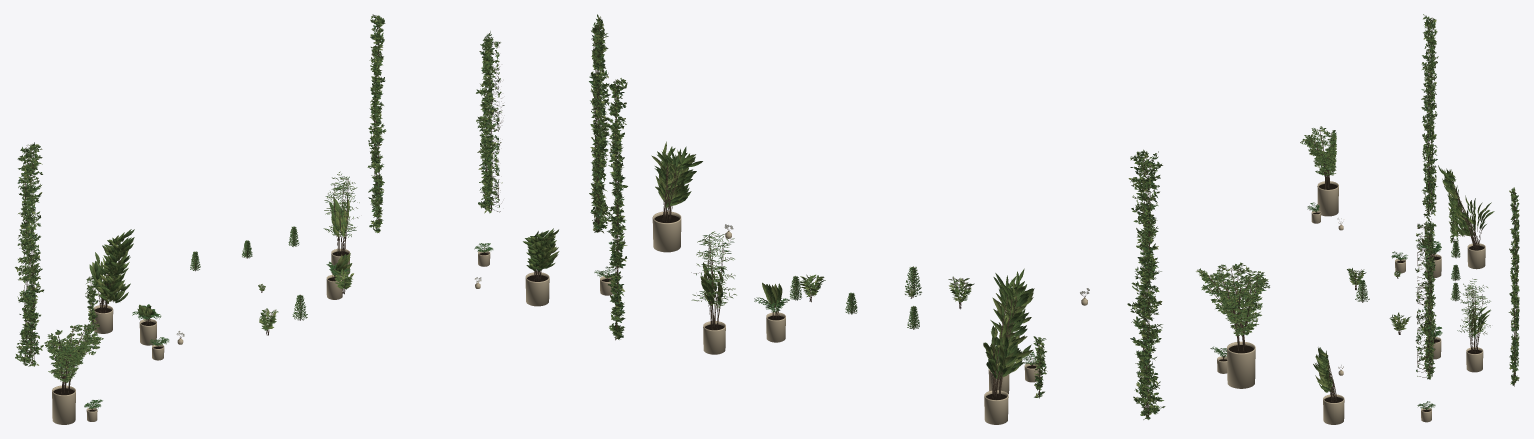
Rendered from projection-botanical-v9.glb.
3 renders of one model, left to right at view 1: azimuth 30°, elevation 25°; view 2: azimuth 150°, elevation 25°; view 3: azimuth 270°, elevation 25°, orthographic. The views are drawn at different scales.
Parts seen in each view (by area): view 1: Projection Botanical V9 | foliage small climbing leaves, Projection Botanical V9 | foliage slender areca and bamboo, Projection Botanical V9 | planter champagne brushed metal, Projection Botanical V9 | foliage broad glossy tropical unde, Projection Botanical V9 | foliage mature ficus with fine ret, Projection Botanical V9 | bark textured natural warm grey tr, Projection Botanical V9 | foliage fine fern pinnae, Projection Botanical V9 | bark slender olive brown stems; view 2: Projection Botanical V9 | foliage small climbing leaves, Projection Botanical V9 | foliage slender areca and bamboo, Projection Botanical V9 | planter champagne brushed metal, Projection Botanical V9 | bark textured natural warm grey tr, Projection Botanical V9 | foliage mature ficus with fine ret, Projection Botanical V9 | foliage broad glossy tropical unde, Projection Botanical V9 | bark slender olive brown stems, Projection Botanical V9 | foliage fine fern pinnae, Projection Botanical V9 | soil dark coarse planting substrat; view 3: Projection Botanical V9 | foliage small climbing leaves, Projection Botanical V9 | planter champagne brushed metal, Projection Botanical V9 | foliage slender areca and bamboo, Projection Botanical V9 | bark textured natural warm grey tr, Projection Botanical V9 | foliage broad glossy tropical unde, Projection Botanical V9 | bark slender olive brown stems, Projection Botanical V9 | foliage mature ficus with fine ret, Projection Botanical V9 | foliage fine fern pinnae, Projection Botanical V9 | soil dark coarse planting substrat.
Part boxes in pixels (left/top/right/bottom): Projection Botanical V9 | foliage small climbing leaves: left=15, top=14, right=504, bottom=366; Projection Botanical V9 | foliage slender areca and bamboo: left=97, top=171, right=559, bottom=303; Projection Botanical V9 | planter champagne brushed metal: left=52, top=248, right=549, bottom=424; Projection Botanical V9 | foliage broad glossy tropical unde: left=89, top=198, right=551, bottom=330; Projection Botanical V9 | foliage mature ficus with fine ret: left=44, top=322, right=103, bottom=382; Projection Botanical V9 | bark textured natural warm grey tr: left=24, top=18, right=541, bottom=394; Projection Botanical V9 | foliage fine fern pinnae: left=84, top=226, right=493, bottom=408; Projection Botanical V9 | bark slender olive brown stems: left=21, top=19, right=541, bottom=411; Projection Botanical V9 | foliage small climbing leaves: left=589, top=14, right=1165, bottom=419; Projection Botanical V9 | foliage slender areca and bamboo: left=651, top=141, right=1034, bottom=379; Projection Botanical V9 | planter champagne brushed metal: left=600, top=211, right=1255, bottom=424; Projection Botanical V9 | bark textured natural warm grey tr: left=593, top=19, right=1259, bottom=419; Projection Botanical V9 | foliage mature ficus with fine ret: left=1196, top=262, right=1269, bottom=336; Projection Botanical V9 | foliage broad glossy tropical unde: left=658, top=168, right=1019, bottom=377; Projection Botanical V9 | bark slender olive brown stems: left=592, top=22, right=1265, bottom=418; Projection Botanical V9 | foliage fine fern pinnae: left=594, top=266, right=1226, bottom=365; Projection Botanical V9 | soil dark coarse planting substrat: left=601, top=214, right=1253, bottom=399; Projection Botanical V9 | foliage small climbing leaves: left=1415, top=14, right=1519, bottom=385; Projection Botanical V9 | planter champagne brushed metal: left=1311, top=181, right=1485, bottom=424; Projection Botanical V9 | foliage slender areca and bamboo: left=1313, top=165, right=1490, bottom=392; Projection Botanical V9 | bark textured natural warm grey tr: left=1309, top=17, right=1517, bottom=402; Projection Botanical V9 | foliage broad glossy tropical unde: left=1320, top=195, right=1494, bottom=389; Projection Botanical V9 | bark slender olive brown stems: left=1300, top=24, right=1518, bottom=411; Projection Botanical V9 | foliage mature ficus with fine ret: left=1300, top=126, right=1336, bottom=175; Projection Botanical V9 | foliage fine fern pinnae: left=1307, top=202, right=1460, bottom=409; Projection Botanical V9 | soil dark coarse planting substrat: left=1313, top=183, right=1484, bottom=411.
Size of the model in its own units: 14.24 by 6.18 by 5.95.
11 materials, 8 textured.
